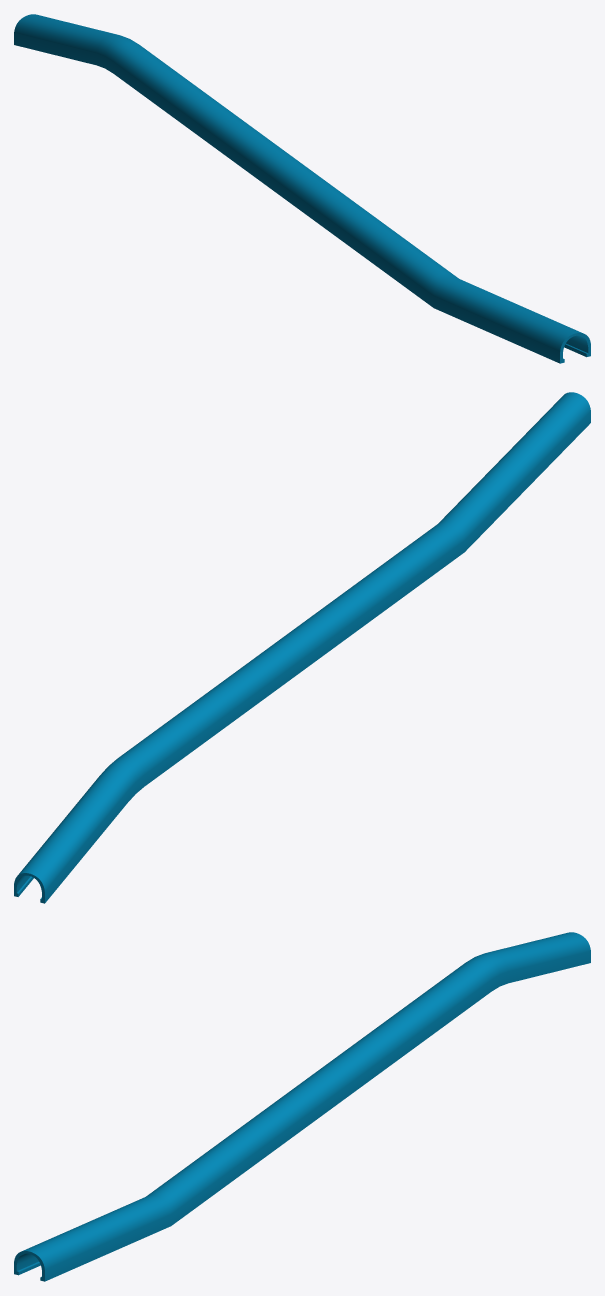
File: tunel.fbx
3 views of the same model, one above another, from view 1: azimuth 30°, elevation 25°; view 2: azimuth 150°, elevation 25°; view 3: azimuth 330°, elevation 25° (orthographic).
Visible parts, largest first — view 1: Box014; view 2: Box014; view 3: Box014.
Part boxes in pixels (x1=…): Box014: x1=14, y1=14, x2=590, y2=363; Box014: x1=14, y1=392, x2=590, y2=903; Box014: x1=14, y1=932, x2=590, y2=1281.
Bounding box in the file's own units: 133 × 443 × 4084.
